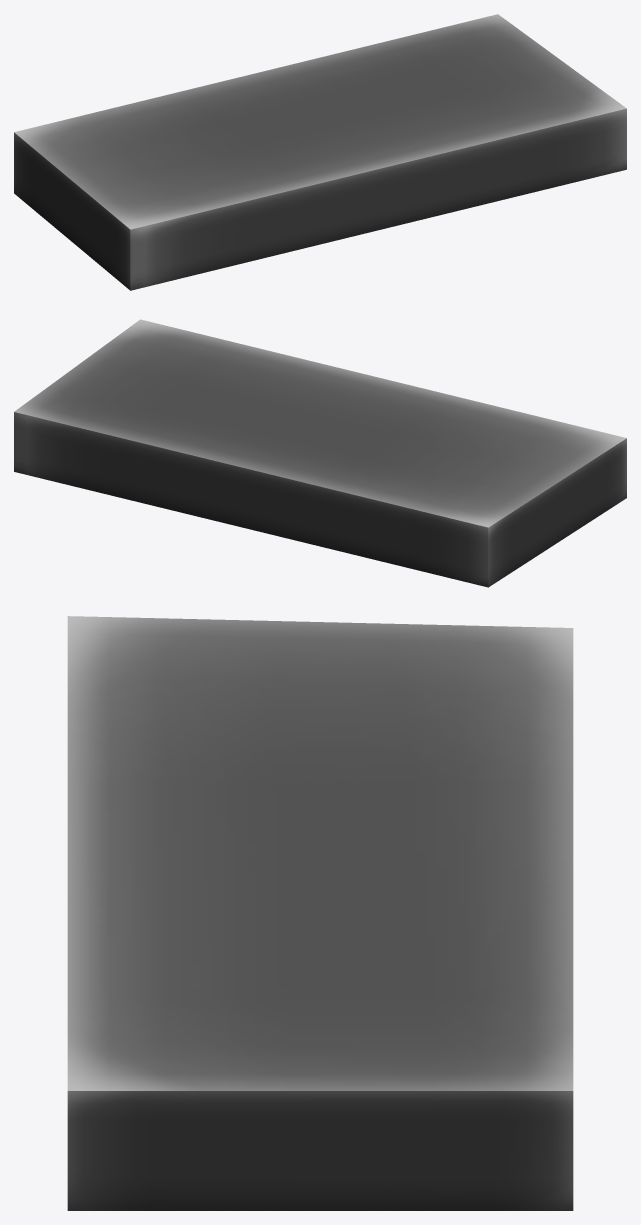
The model's file is StonePath_04.fbx.
3 views of the same model, one above another, from view 1: azimuth 30°, elevation 25°; view 2: azimuth 150°, elevation 25°; view 3: azimuth 270°, elevation 25° (orthographic). The views are drawn at different scales.
Parts seen in each view (by area): view 1: StonePath_04; view 2: StonePath_04; view 3: StonePath_04.
Part boxes in pixels (x1,y1,x2,y2): StonePath_04: [14, 14, 626, 290]; StonePath_04: [14, 319, 626, 587]; StonePath_04: [67, 616, 573, 1210].
Bounding box in the file's own units: 72.86 × 8.57 × 32.78.
1 material, 1 textured.
